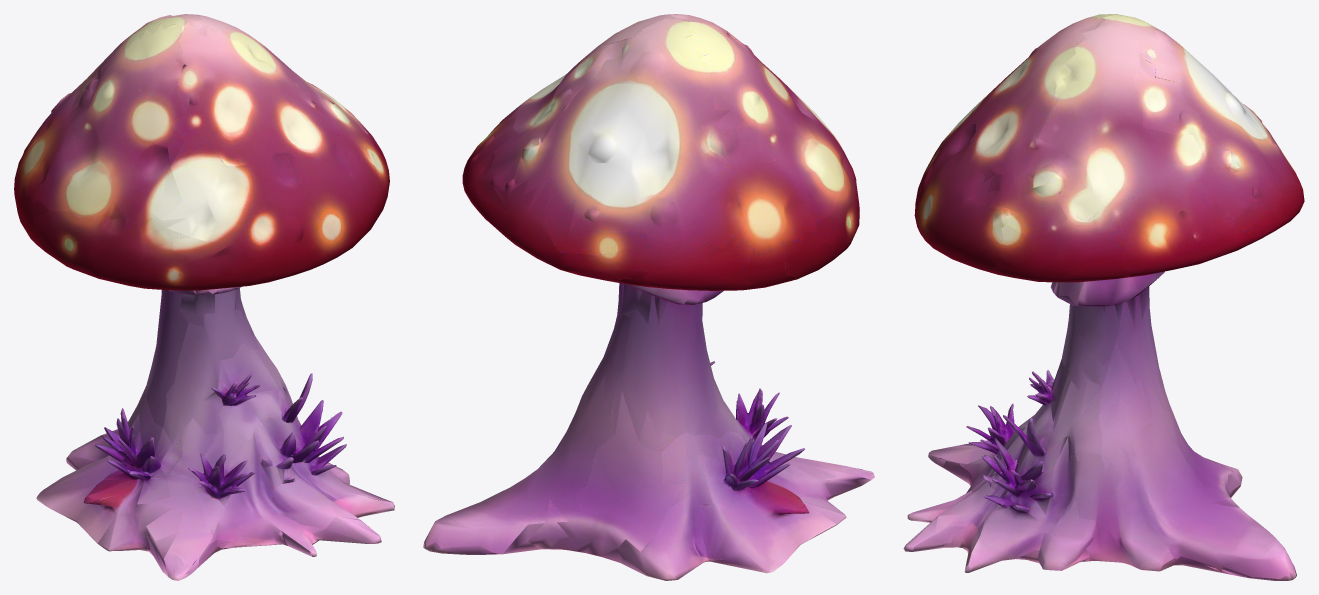
File: item_mushroom.glb
3 renders of one model, left to right at view 1: azimuth 30°, elevation 25°; view 2: azimuth 150°, elevation 25°; view 3: azimuth 270°, elevation 25°, orthographic. The views are drawn at different scales.
Parts seen in each view (by area): view 1: item_mushroom; view 2: item_mushroom; view 3: item_mushroom.
Part boxes in pixels (x1,y1,x2,y2): item_mushroom: (14, 14, 394, 580); item_mushroom: (423, 14, 874, 580); item_mushroom: (903, 14, 1304, 580).
Bounding box in the file's own units: 0.8665 × 1.2 × 0.9012.
1 material, 1 textured.
